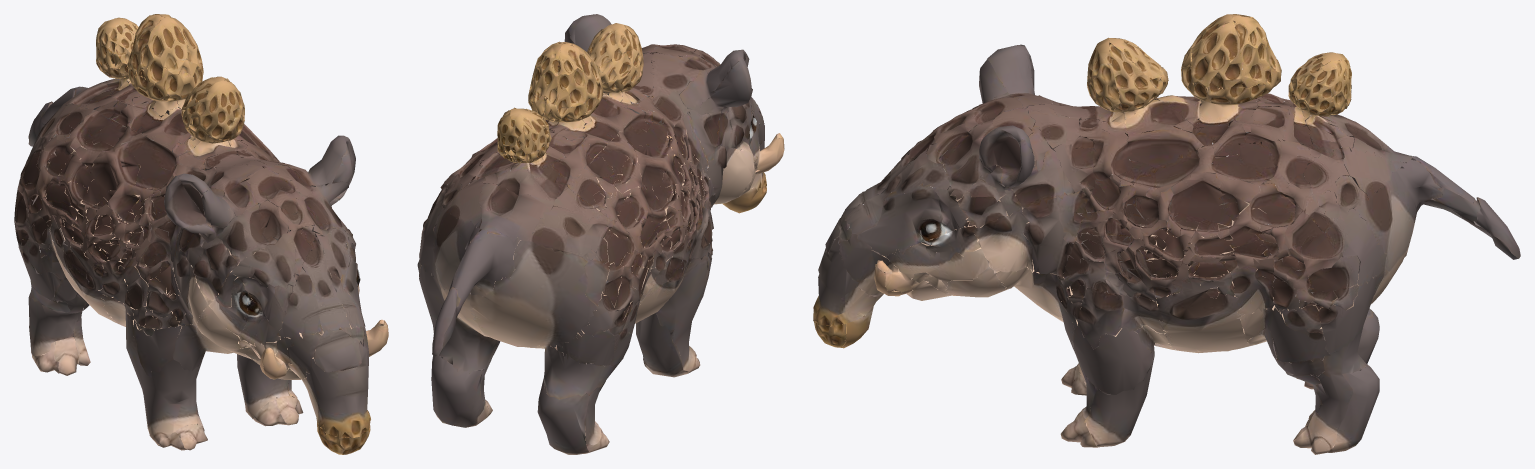
3 renders of one model, left to right at view 1: azimuth 30°, elevation 25°; view 2: azimuth 150°, elevation 25°; view 3: azimuth 270°, elevation 25°, orthographic. The views are drawn at different scales.
Parts seen in each view (by area): view 1: Mesh_0; view 2: Mesh_0; view 3: Mesh_0.
Part boxes in pixels (left/top/right/bottom): Mesh_0: left=14, top=14, right=388, bottom=454; Mesh_0: left=417, top=14, right=784, bottom=454; Mesh_0: left=813, top=14, right=1520, bottom=454.
Size of the model in its own units: 0.7065 by 1.18 by 1.9.
Materials: 1 (1 with a texture image).
